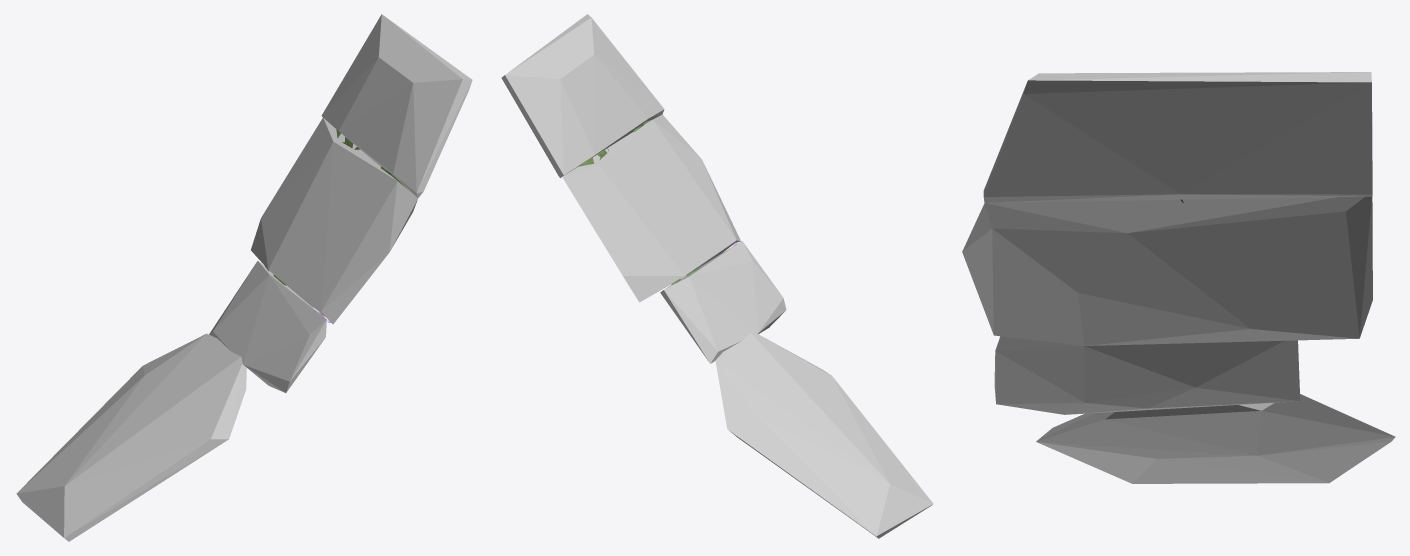
The model's file is SM_Env_Vines_Preset_Roof_Concave_04.fbx.
3 views of the same model, side by side, from view 1: azimuth 30°, elevation 25°; view 2: azimuth 150°, elevation 25°; view 3: azimuth 270°, elevation 25° (orthographic). The views are drawn at different scales.
Visible parts, largest first — view 1: SM_Env_Vines_Preset_Roof_Concave_04_ConvexHulls; view 2: SM_Env_Vines_Preset_Roof_Concave_04_ConvexHulls; view 3: SM_Env_Vines_Preset_Roof_Concave_04_ConvexHulls.
Boxes of the visible parts, left/top/right/bottom form: SM_Env_Vines_Preset_Roof_Concave_04_ConvexHulls: left=16, top=14, right=472, bottom=541; SM_Env_Vines_Preset_Roof_Concave_04_ConvexHulls: left=501, top=14, right=933, bottom=538; SM_Env_Vines_Preset_Roof_Concave_04_ConvexHulls: left=962, top=72, right=1395, bottom=483.
Size of the model in its own units: 195 by 97.75 by 191.
Materials: 3 (2 with a texture image).
